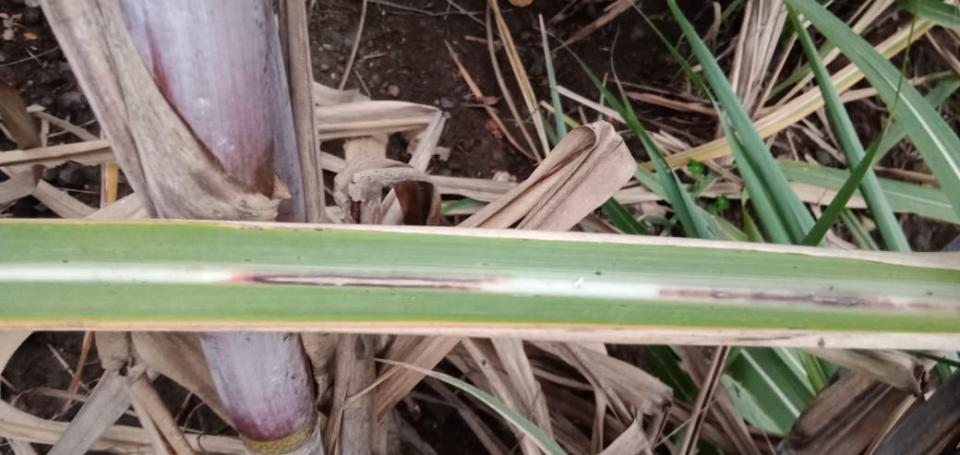RedRot: (228, 273, 500, 290), (657, 289, 896, 308), (904, 300, 938, 310)
Yellow: (0, 218, 959, 269), (0, 318, 959, 350)
